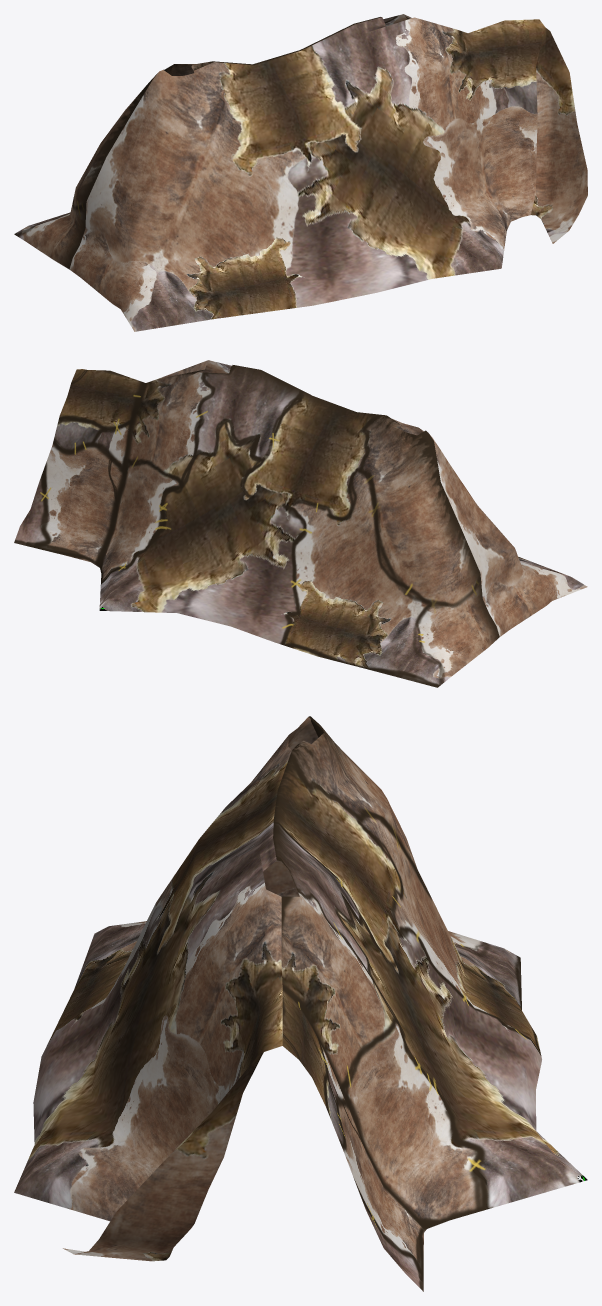
File: TentInside_Final.FBX
3 renders of one model, top to bottom at view 1: azimuth 30°, elevation 25°; view 2: azimuth 150°, elevation 25°; view 3: azimuth 270°, elevation 25°, orthographic. The views are drawn at different scales.
Visible parts, largest first — view 1: tent001; view 2: tent001; view 3: tent001.
Part boxes in pixels (left/top/right/bottom): tent001: left=14, top=14, right=587, bottom=331; tent001: left=14, top=360, right=587, bottom=687; tent001: left=14, top=716, right=587, bottom=1291.
Size of the model in its own units: 336 by 136 by 223.
